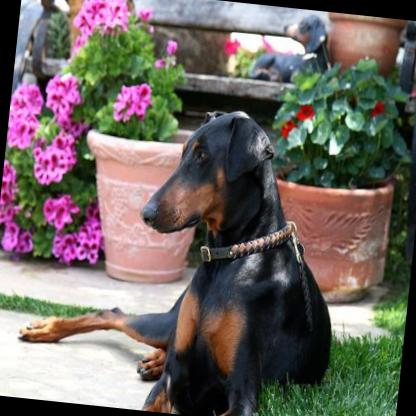Doberman: (8, 90, 358, 416)
